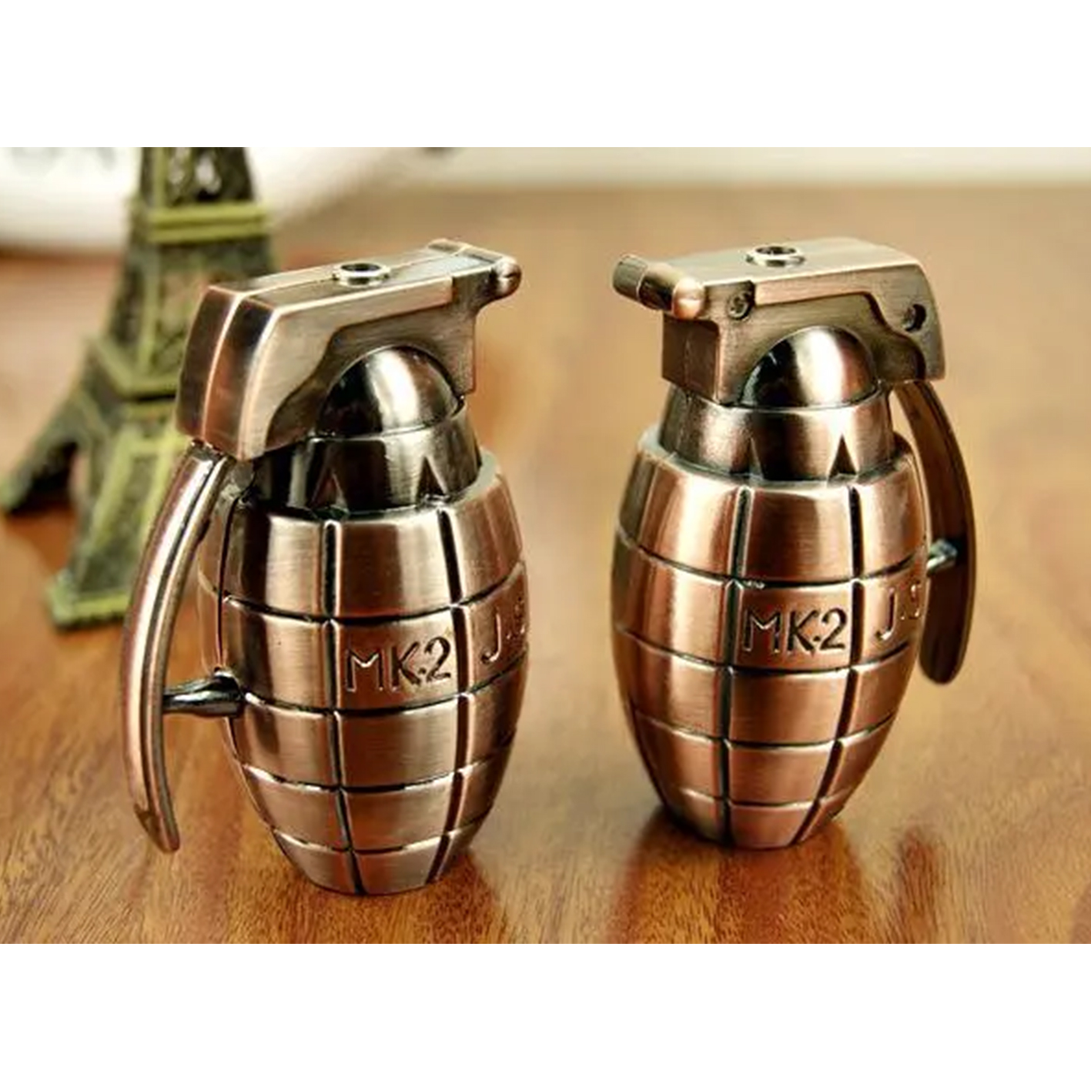mine: (742, 337, 817, 410), (743, 241, 806, 269)
